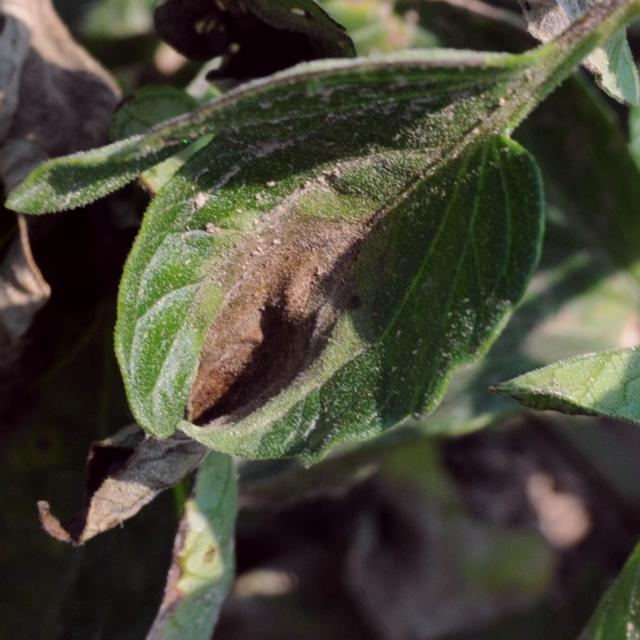Tomato leaf late blight: (77, 44, 553, 517), (0, 0, 457, 16)
